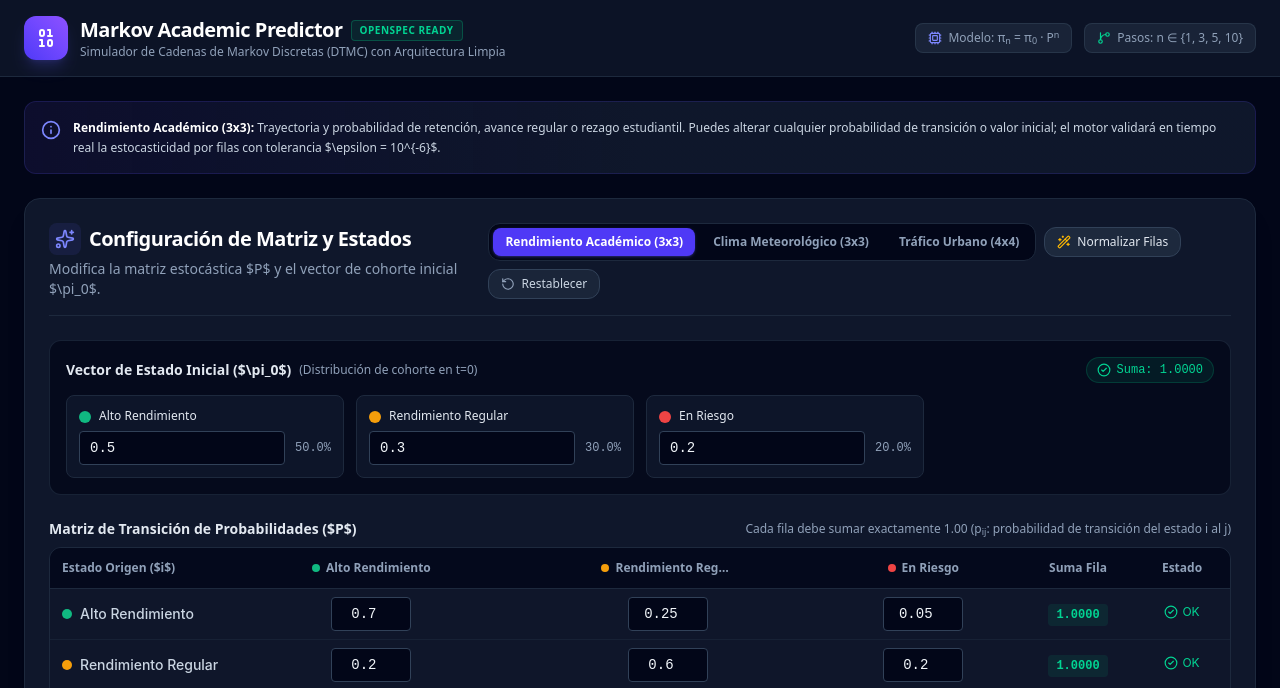
Test case: App Integration Tests (OpenSpec UI & Engine) › Carga correctamente el preset de Tráfico Urbano (4x4)
Clic en preset de Tráfico
Click the button with test id "preset-btn-traffic". click: (959, 242)
box: [887,228,1031,256]
(page scrolled)
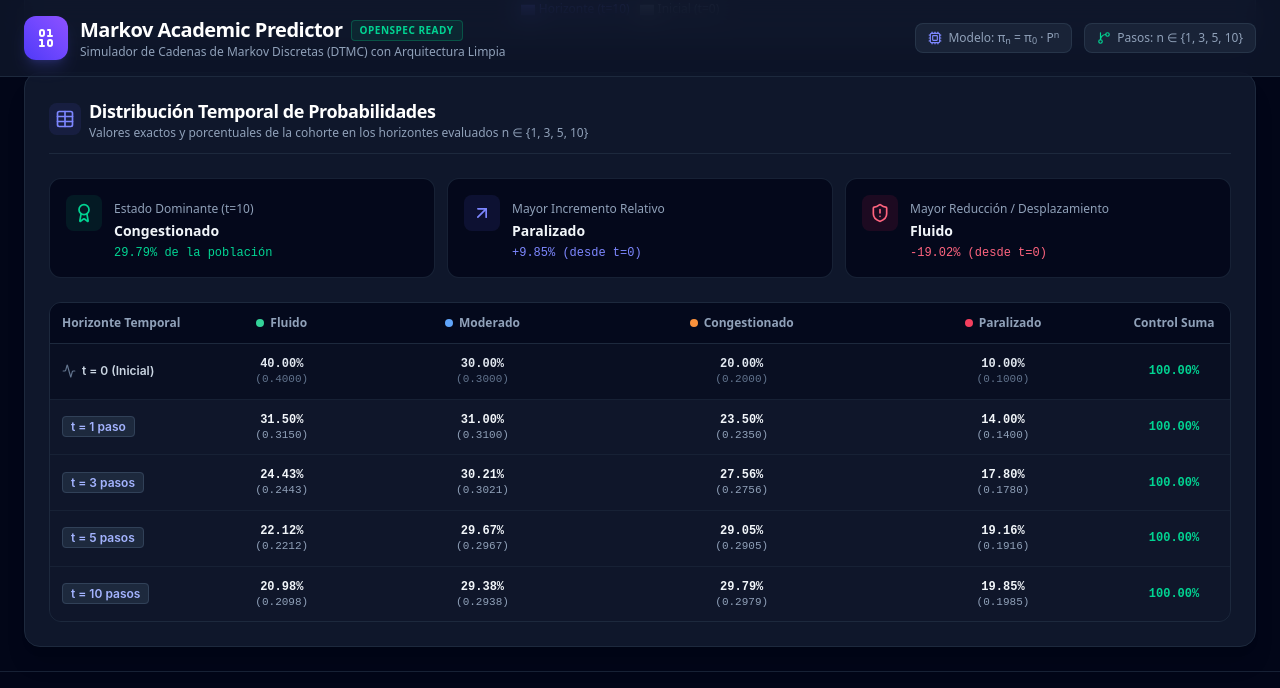
expect the cell with test id "prob-t1-col3" is shown: met, box [888,399,1118,455]
